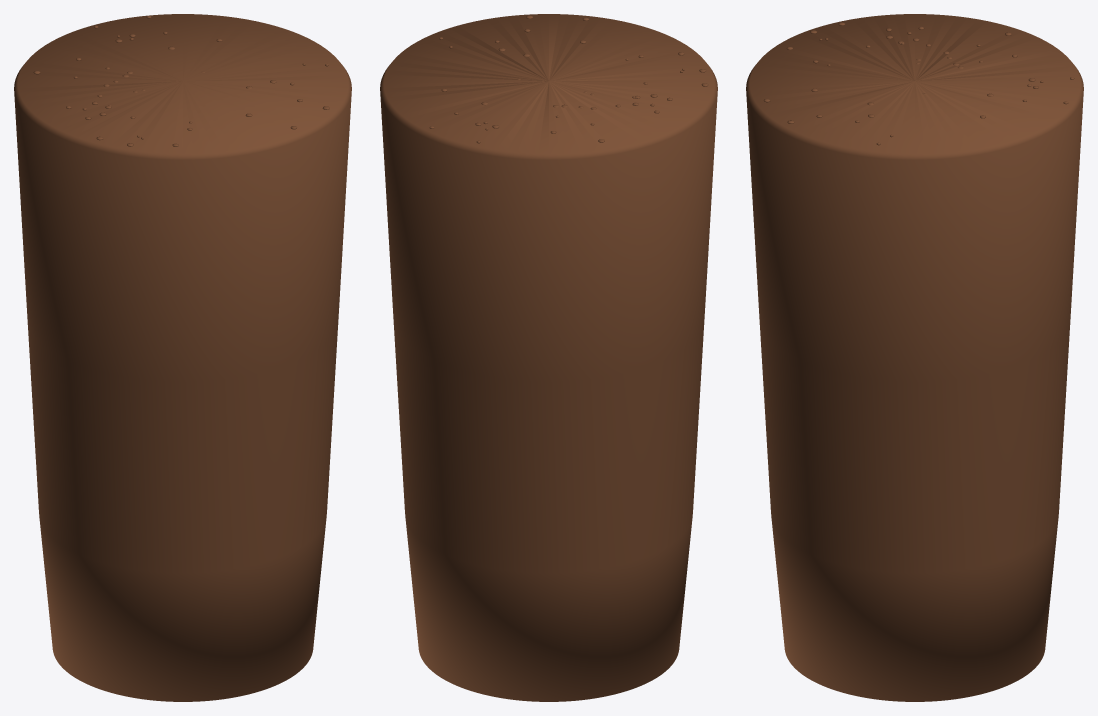
The model's file is sweet-shake-chocolate.glb.
The picture shows the model from 3 angles, left to right: view 1: azimuth 30°, elevation 25°; view 2: azimuth 150°, elevation 25°; view 3: azimuth 270°, elevation 25°; orthographic projection.
Parts seen in each view (by area): view 1: chocolate shake; view 2: chocolate shake; view 3: chocolate shake.
Boxes of the visible parts, x1=… form: chocolate shake: x1=14, y1=14, x2=351, y2=701; chocolate shake: x1=380, y1=14, x2=717, y2=701; chocolate shake: x1=746, y1=14, x2=1083, y2=701.
Bounding box in the file's own units: 1.3 × 2.39 × 1.3.
